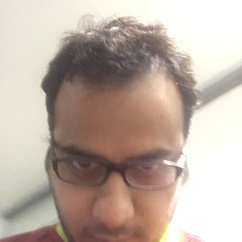glasses: (51, 153, 189, 188)
